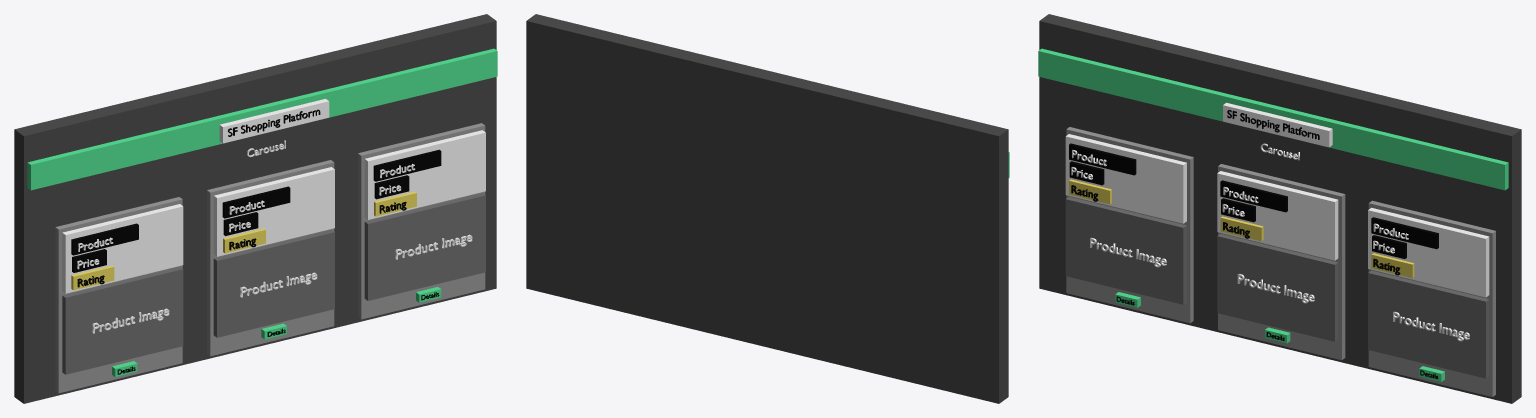
3 views of the same model, side by side, from view 1: azimuth 30°, elevation 25°; view 2: azimuth 150°, elevation 25°; view 3: azimuth 330°, elevation 25° (orthographic).
Parts seen in each view (by area): view 1: Cube.023, Text.010, Text.011, Text.012, Text; view 2: Cube.023; view 3: Cube.023, Text.010, Text.012, Text.011, Text.
Part boxes in pixels (<box>): Cube.023: <box>14,14,497,403</box>; Text.010: <box>240,272,317,297</box>; Text.011: <box>92,308,169,333</box>; Text.012: <box>395,234,472,259</box>; Text: <box>228,109,320,136</box>; Cube.023: <box>526,14,1009,403</box>; Cube.023: <box>1038,14,1521,403</box>; Text.010: <box>1237,273,1314,303</box>; Text.012: <box>1393,311,1469,341</box>; Text.011: <box>1090,237,1166,267</box>; Text: <box>1227,110,1319,139</box>.
Bounding box in the file's own units: 21.11 × 11.42 × 1.61.
